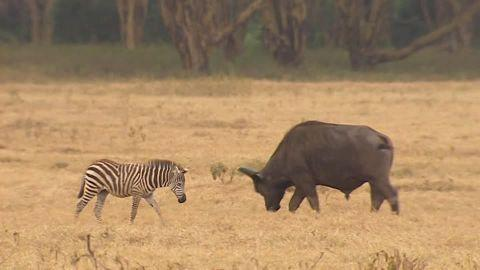Buffalo: (241, 121, 430, 216)
